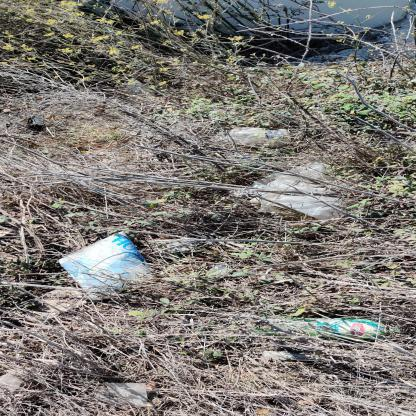plastik: (249, 163, 347, 223), (263, 317, 401, 343)
